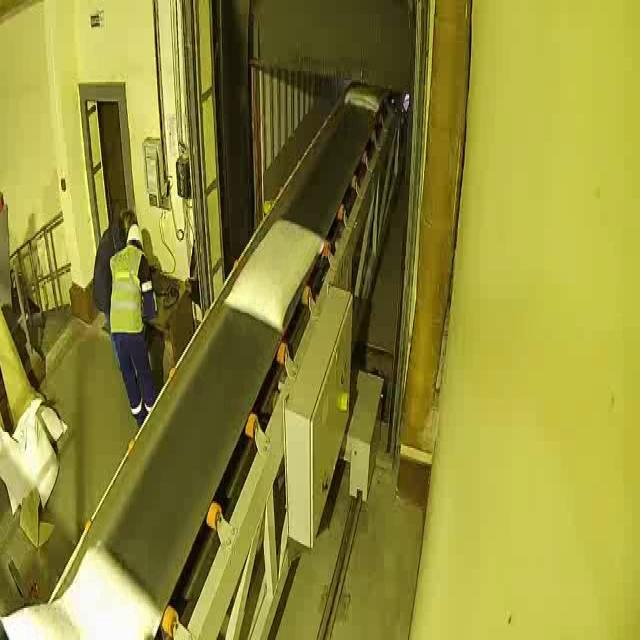bag: (1, 537, 157, 636), (222, 212, 325, 334), (345, 86, 386, 114)
